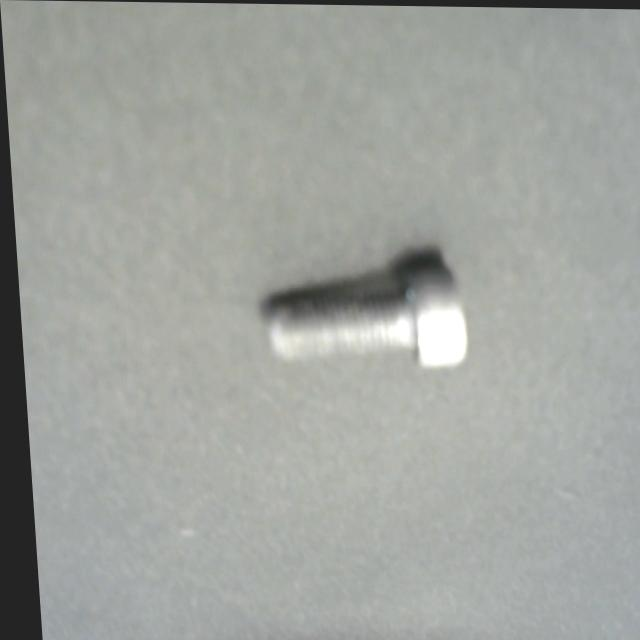SocketHeadCapScrew: (246, 240, 470, 400)
